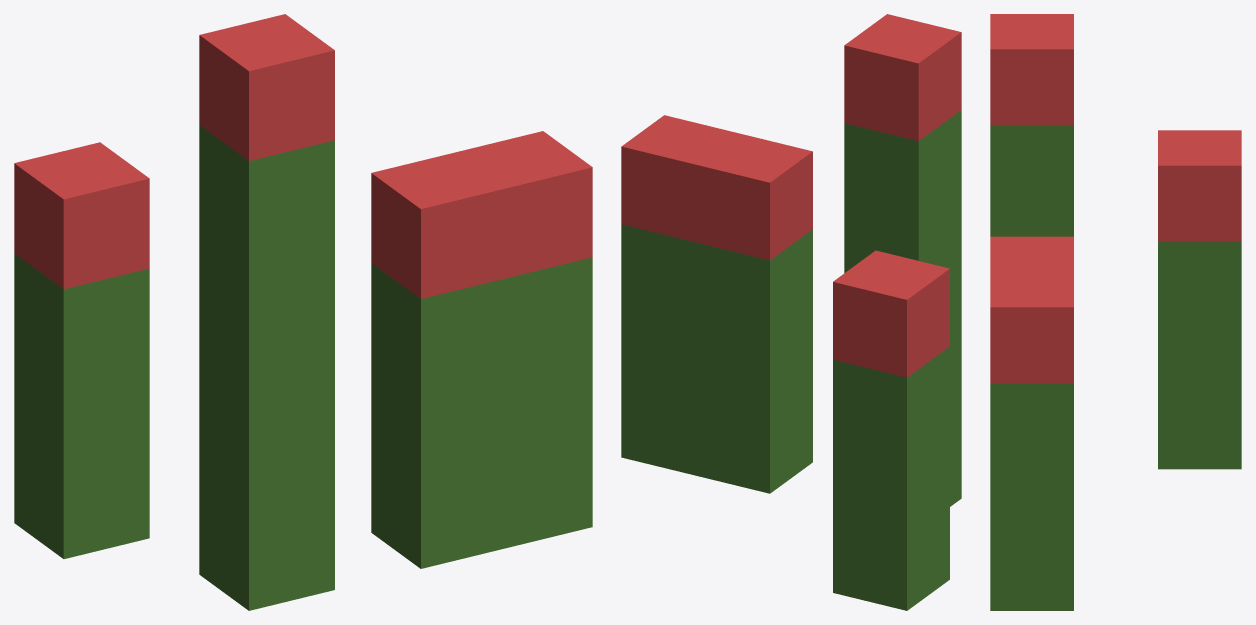
The model's file is flowers_r.glb.
3 renders of one model, left to right at view 1: azimuth 30°, elevation 25°; view 2: azimuth 150°, elevation 25°; view 3: azimuth 270°, elevation 25°, orthographic. The views are drawn at different scales.
Parts seen in each view (by area): view 1: flowers_r; view 2: flowers_r; view 3: flowers_r.
Boxes of the visible parts, x1,y1,x2,y2 form: flowers_r: (14,14,592,610); flowers_r: (621,14,961,610); flowers_r: (990,14,1241,610).
Size of the model in its own units: 0.5 by 0.6 by 0.3.
Materials: 1 (1 with a texture image).
